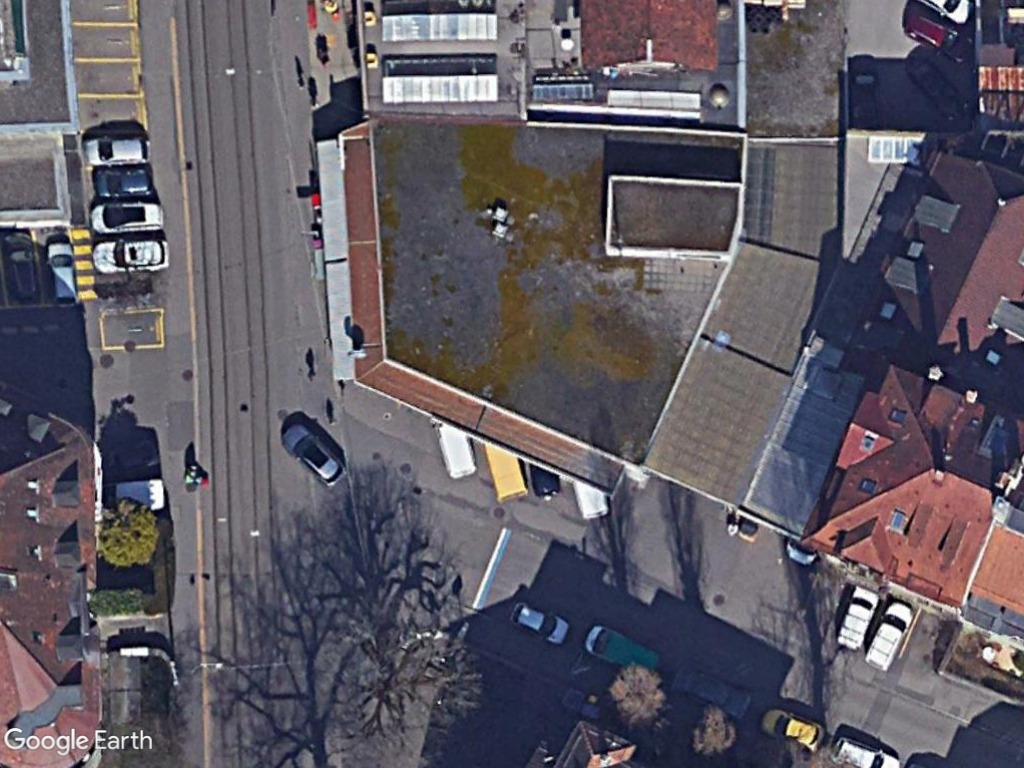car: (278, 422, 349, 490), (758, 707, 828, 753), (508, 599, 573, 648), (89, 237, 170, 274), (90, 198, 166, 236), (45, 241, 80, 310), (81, 135, 155, 166), (90, 168, 156, 199)
van: (864, 602, 919, 672), (833, 585, 881, 650)
